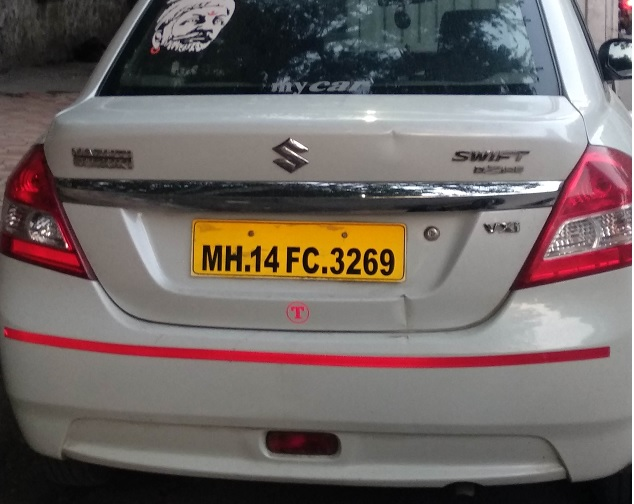licenseplate: (193, 218, 410, 286)
